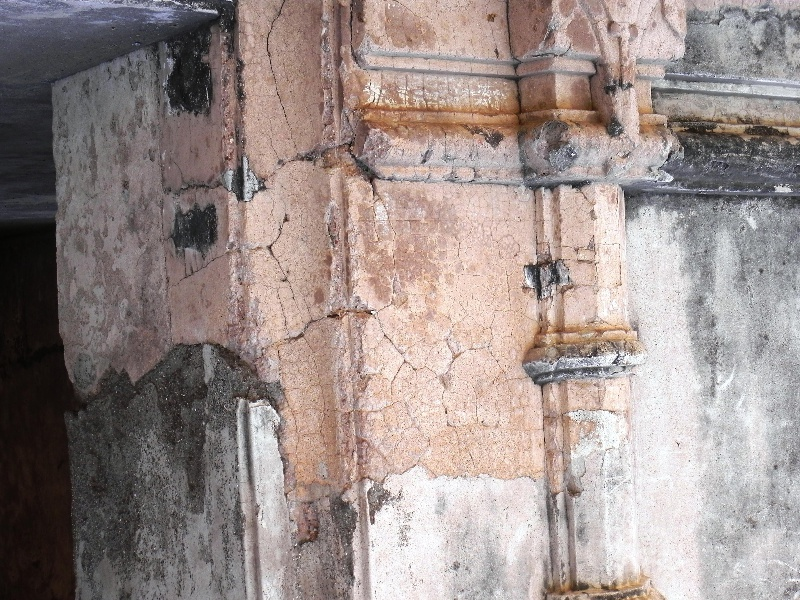Spalling: (518, 242, 583, 305)
